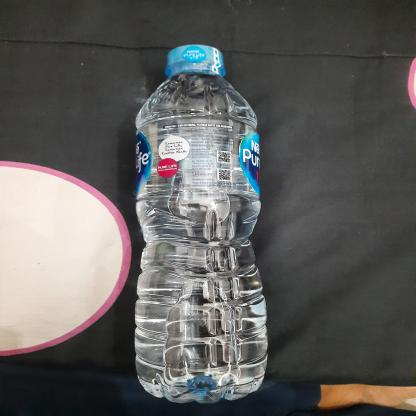plastic: (129, 41, 273, 406)
